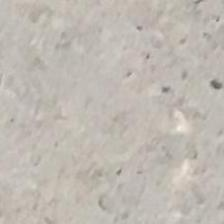Non_Crack: (15, 30, 224, 223)
